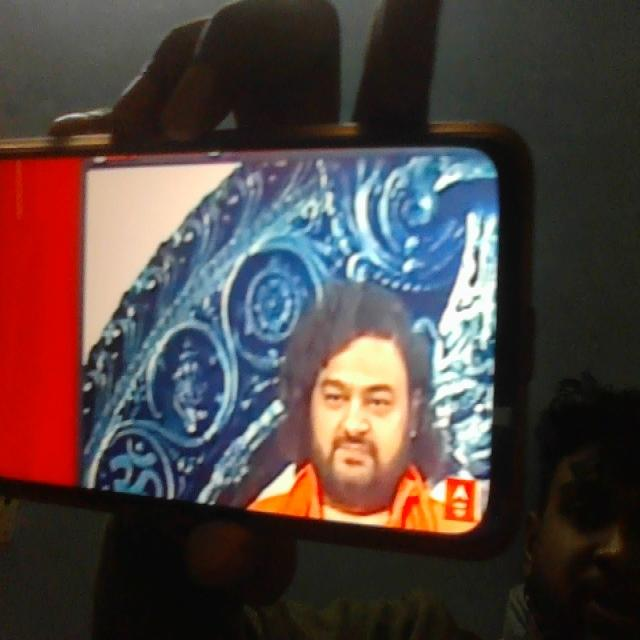fake: (297, 276, 419, 507)
